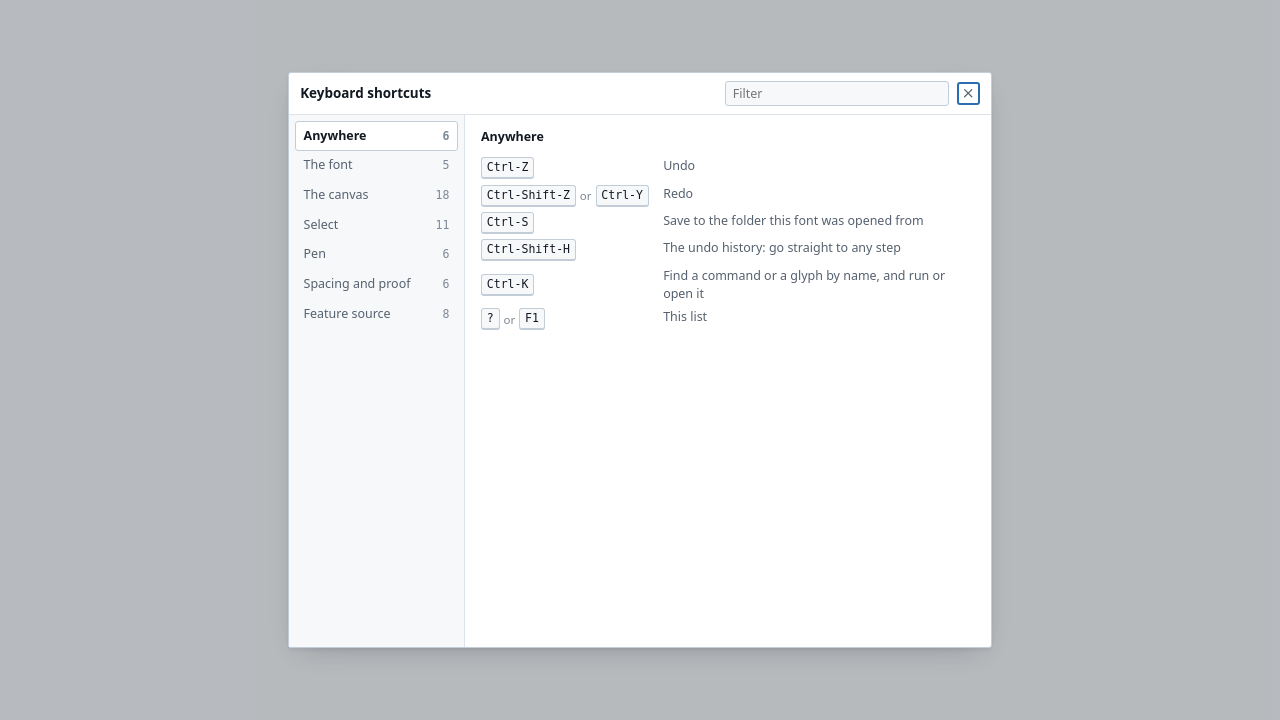
Scenario: the sheet › shows one place at a time, and turns to the one chosen
Expected: the text "Select, pen, stroke, rectangle, ellipse, knife, ruler line" is not shown
Click the tab "The canvas 18".
click(376, 195)  # box [295, 180, 458, 210]
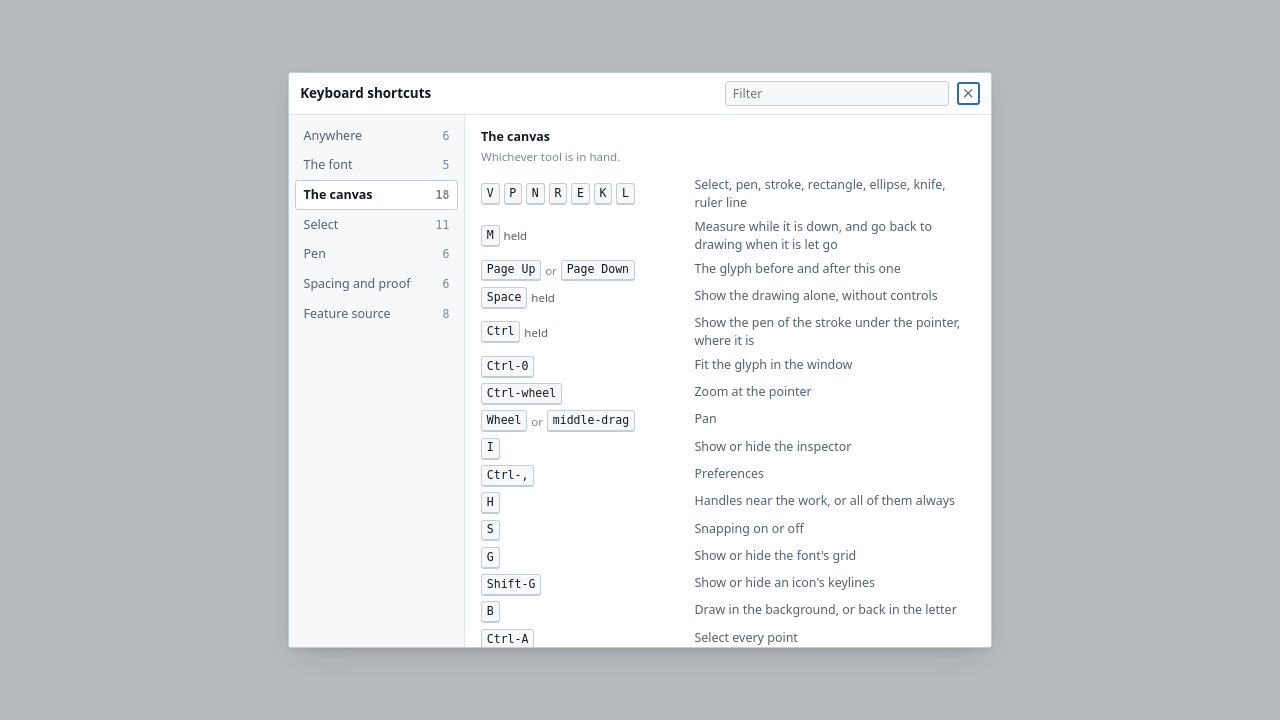
Result: the text "Select, pen, stroke, rectangle, ellipse, knife, ruler line" is shown at [694, 176, 975, 212]
Result: the text "Undo" is gone
